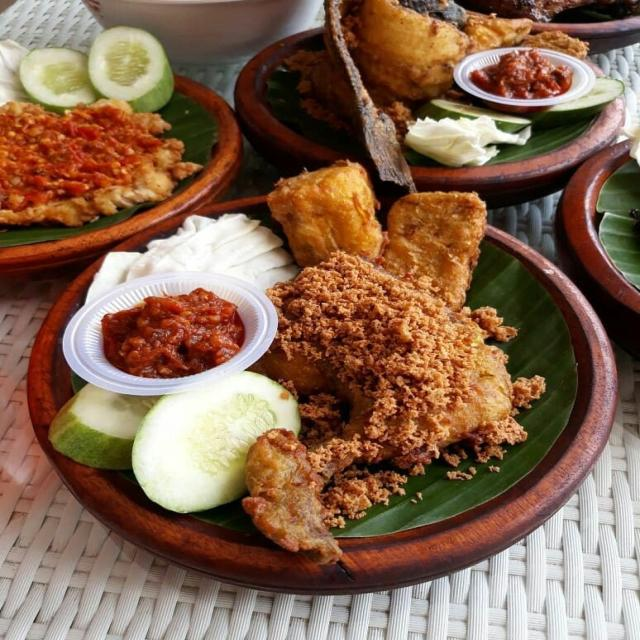ayam goreng: (248, 253, 530, 578)
piring: (25, 169, 619, 598), (232, 26, 624, 209), (0, 74, 241, 280), (551, 141, 639, 321)
sambal: (103, 291, 245, 378), (468, 48, 573, 98)
tempe goreng: (381, 191, 488, 311)
